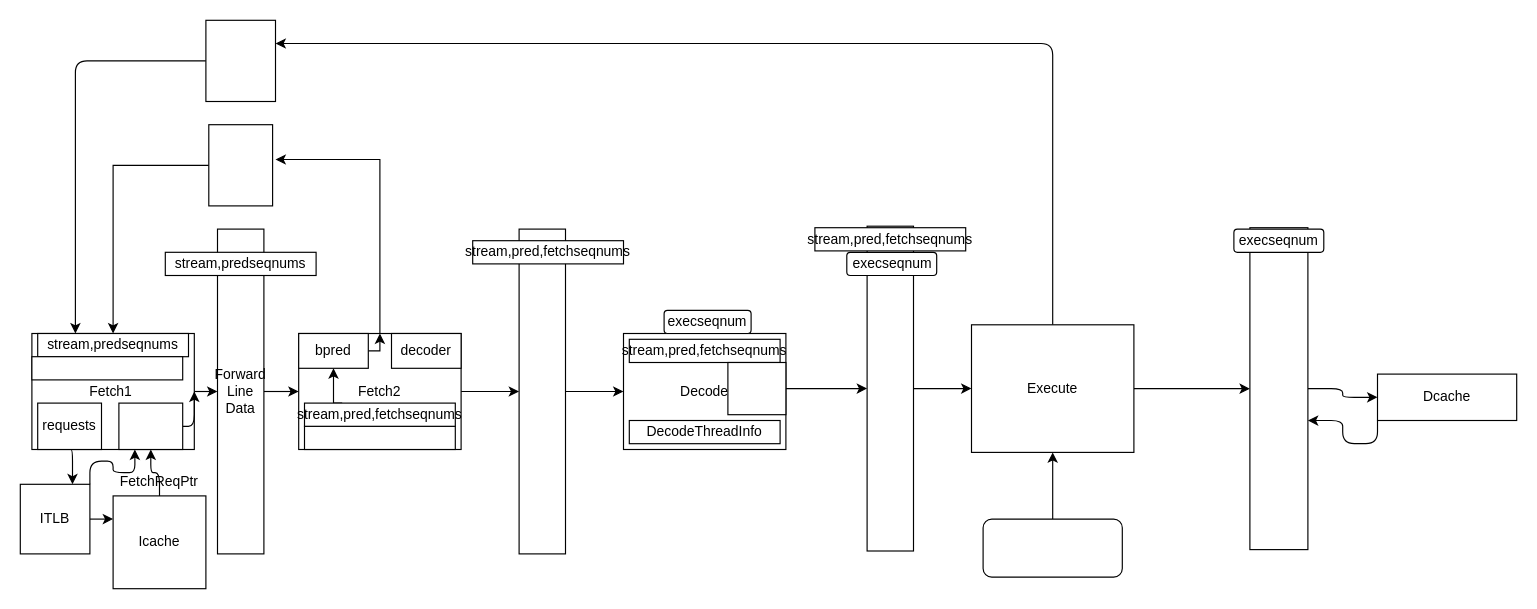
Image size: 1537x609. Some labels were removed from this diagram. Here are the shapes that lost their labels. From the top down, the box of each, then its label:
(205, 19, 276, 102): newstream seqnums
(208, 124, 273, 206): newpred seqnums
(31, 356, 183, 380): Fetch1ThreadInfo
(727, 361, 786, 415): microop decomp
(866, 225, 913, 551): Forward Inst Data (microop)
(518, 228, 566, 554): Forward Inst Data (macroop)
(1249, 227, 1308, 550): LSQ
(118, 402, 183, 449): transfers
(303, 425, 455, 449): Fetch2ThreadInfo
(982, 518, 1122, 577): Reg file
